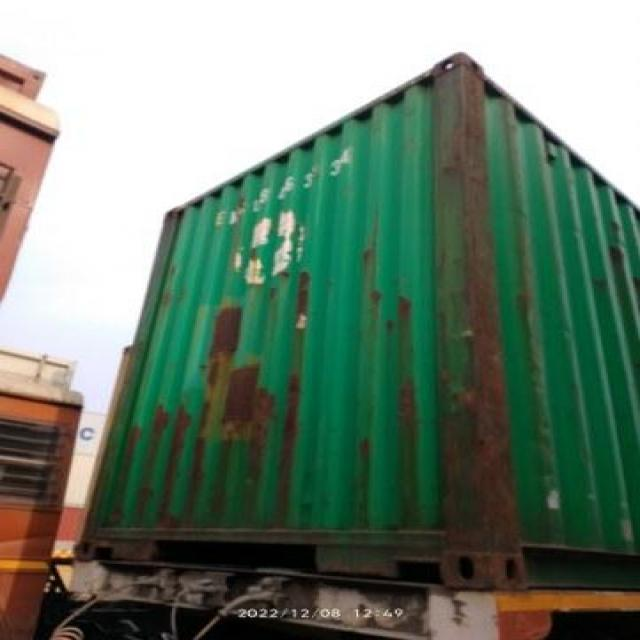Rust: (452, 405, 499, 533), (438, 70, 479, 148), (468, 248, 488, 375), (219, 372, 253, 426), (210, 318, 247, 350), (298, 286, 319, 320)
